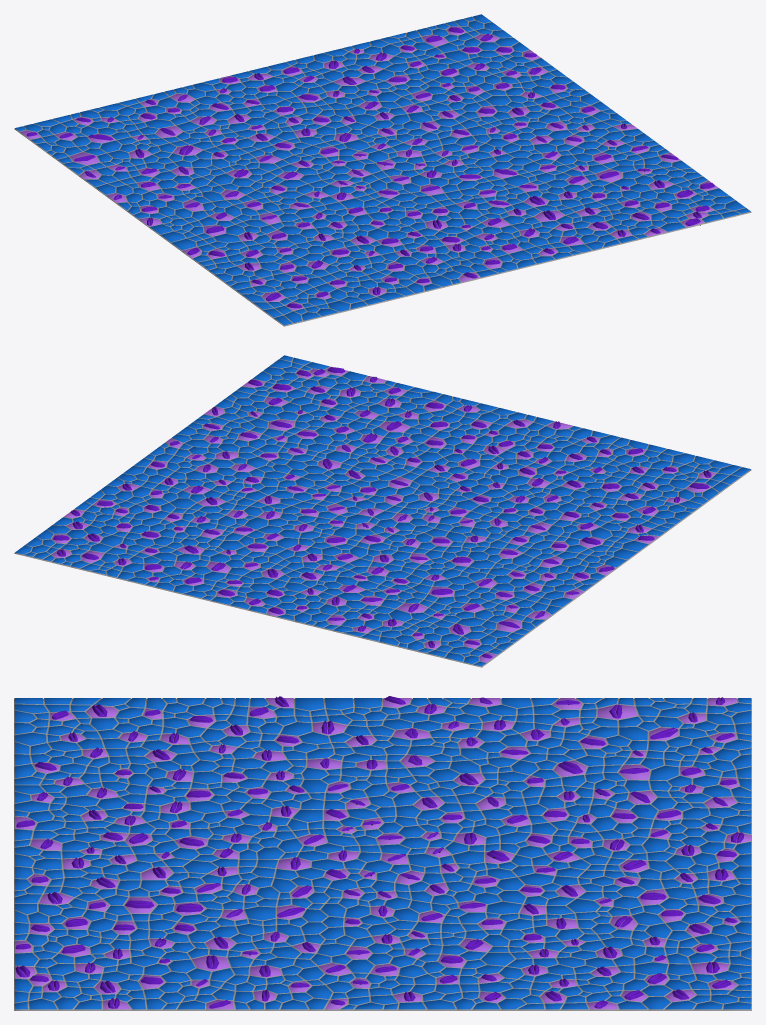
The model's file is xibao.FBX.
3 views of the same model, one above another, from view 1: azimuth 30°, elevation 25°; view 2: azimuth 150°, elevation 25°; view 3: azimuth 270°, elevation 25° (orthographic). The views are drawn at different scales.
Parts seen in each view (by area): view 1: Plane001, 对象002; view 2: Plane001, 对象002; view 3: Plane001, 对象002.
Part boxes in pixels (x1,y1,x2,y2): Plane001: [14, 14, 751, 326]; 对象002: [26, 27, 714, 308]; Plane001: [14, 355, 751, 667]; 对象002: [53, 367, 711, 658]; Plane001: [14, 698, 751, 1010]; 对象002: [15, 696, 744, 1008].
Bounding box in the file's own units: 3094 × 29.08 × 3094.
